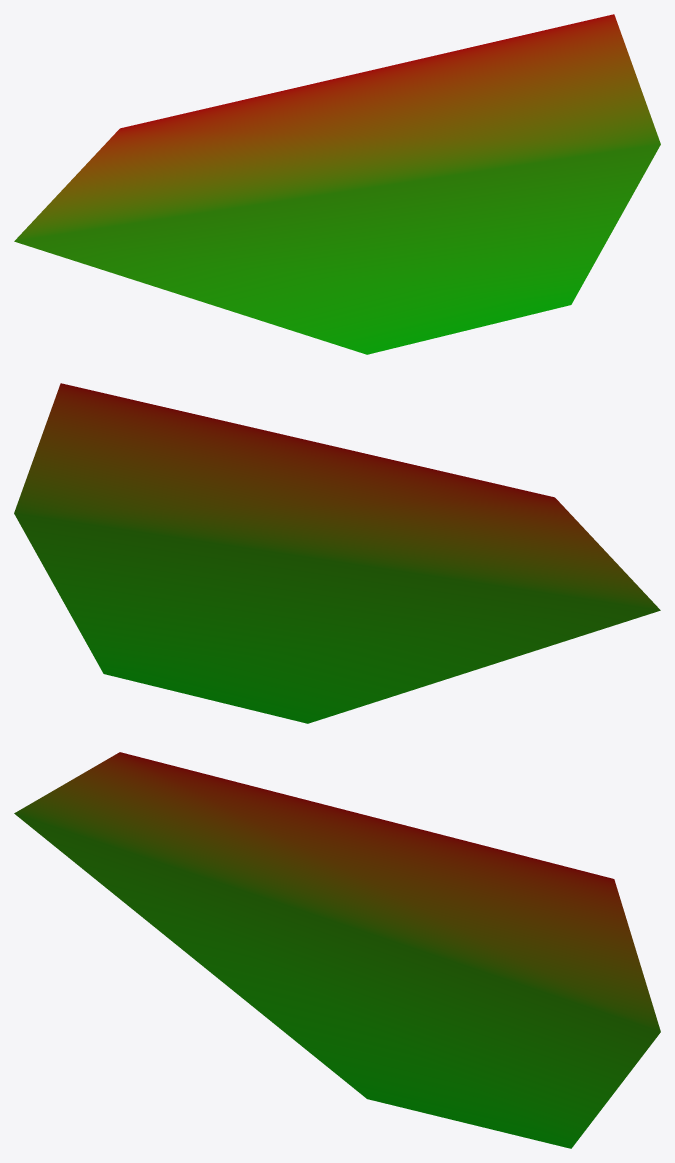
File: Fern_LOD3_Var4_rmAsg.fbx
The picture shows the model from 3 angles, top to bottom: view 1: azimuth 30°, elevation 25°; view 2: azimuth 150°, elevation 25°; view 3: azimuth 330°, elevation 25°; orthographic projection.
Visible parts, largest first — view 1: _1703_Var4_LOD3; view 2: _1703_Var4_LOD3; view 3: _1703_Var4_LOD3.
Boxes of the visible parts, x1,y1,x2,y2 form: _1703_Var4_LOD3: (14,14,660,354); _1703_Var4_LOD3: (14,383,660,723); _1703_Var4_LOD3: (14,752,660,1148).
Bounding box in the file's own units: 167 × 70.52 × 1.43e-05.
